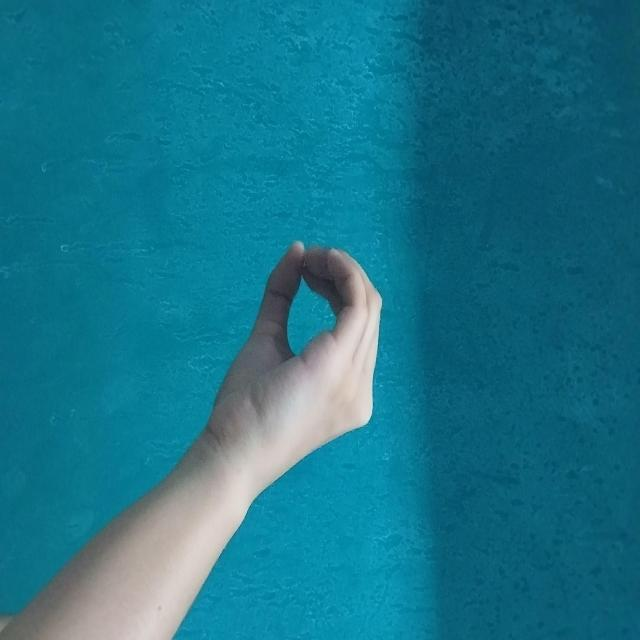O: (209, 227, 408, 484)
